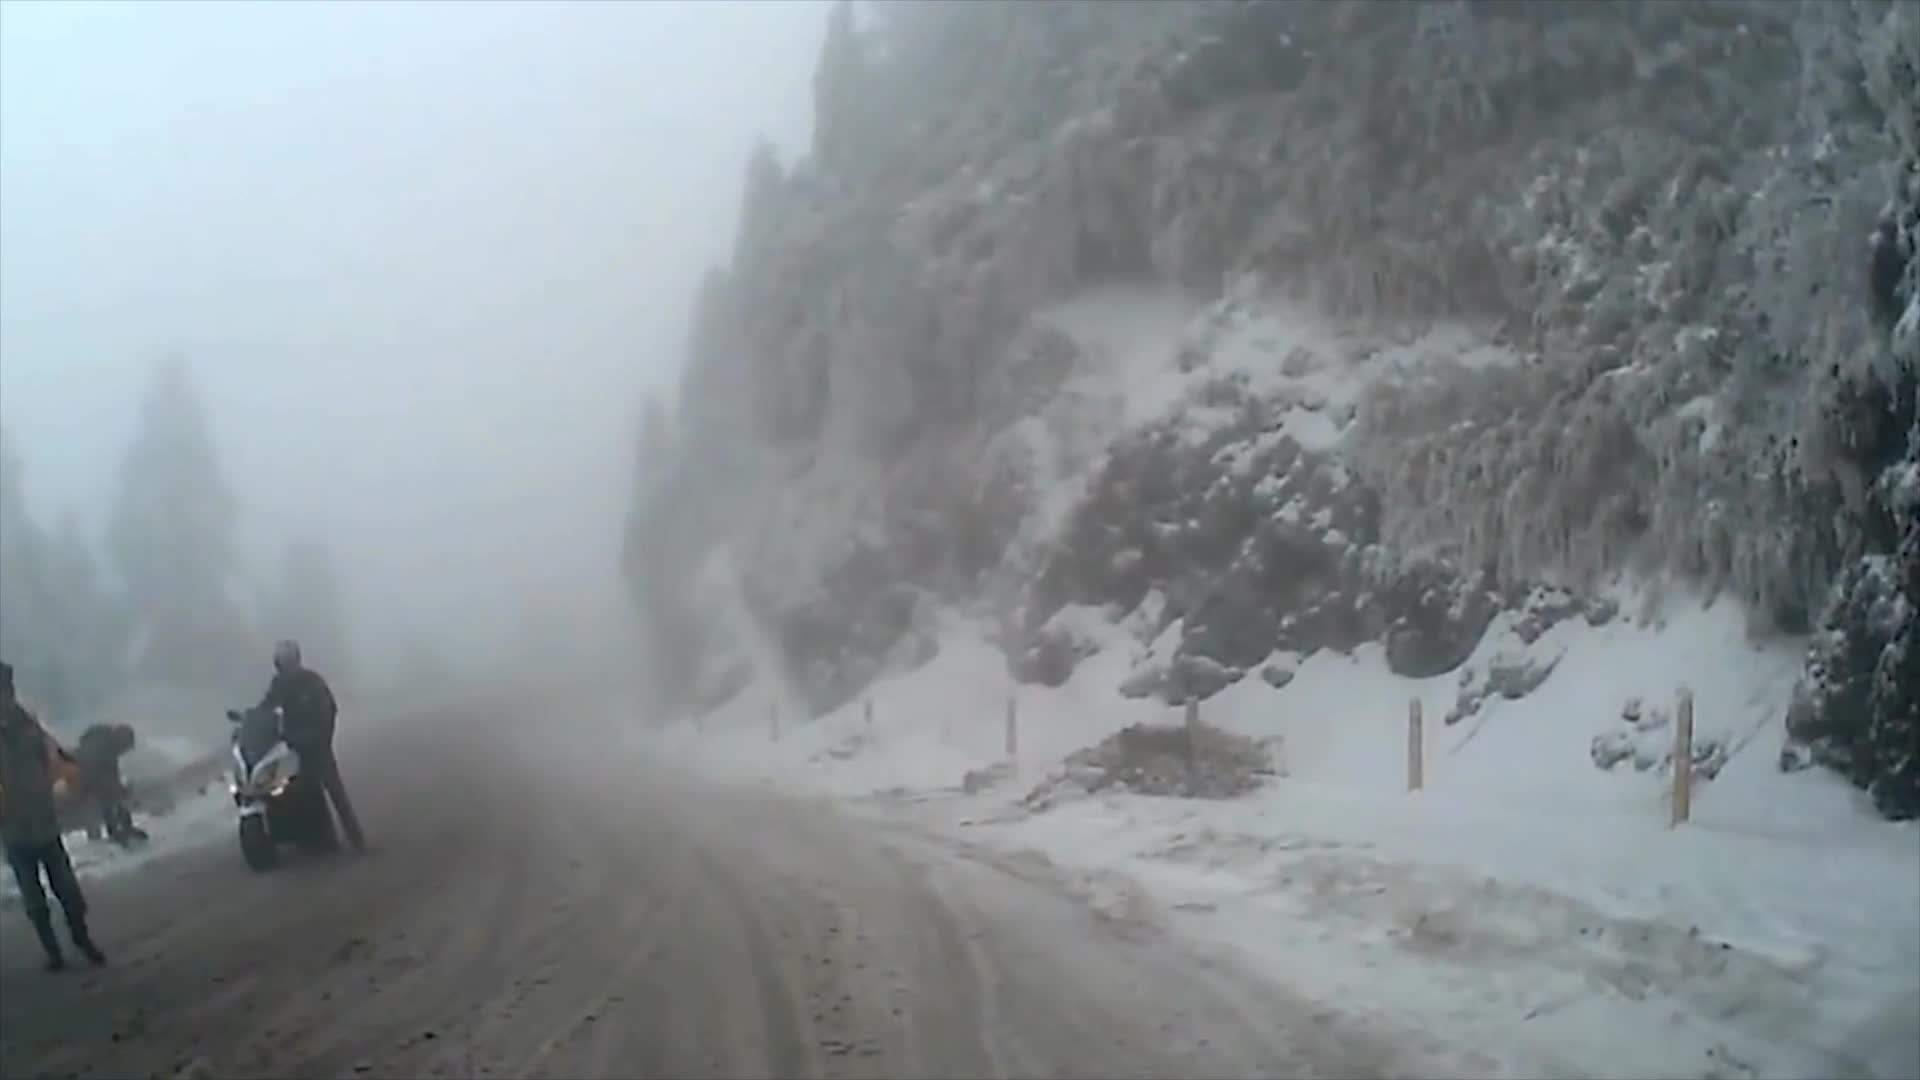pedestrian: (2, 664, 110, 971), (248, 635, 386, 867), (75, 727, 155, 849)
